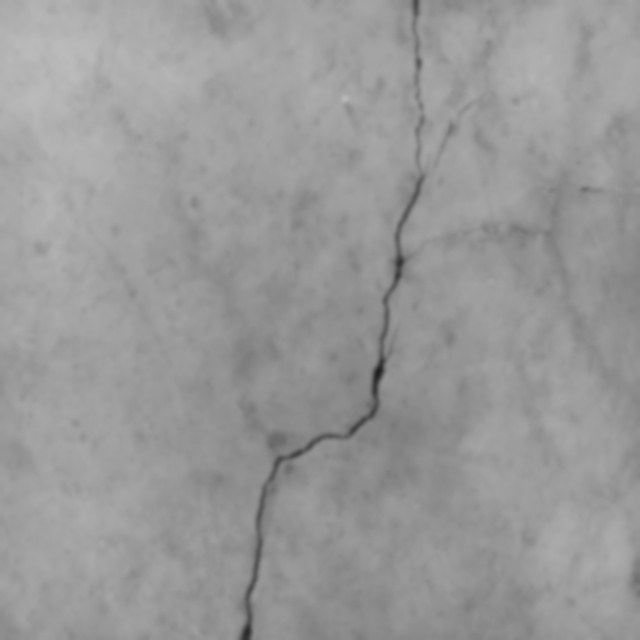SurfaceCrack: (208, 3, 490, 640)
